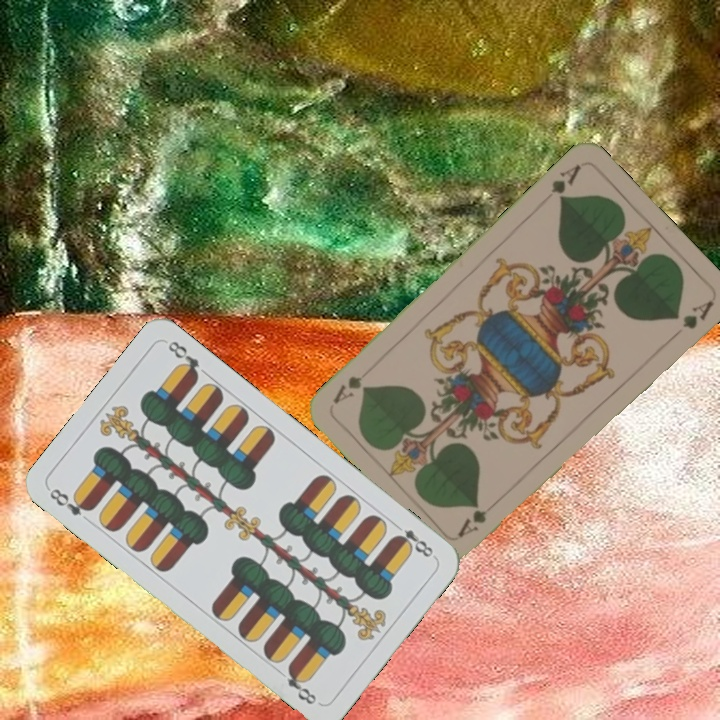E8: (389, 518, 436, 560), (45, 484, 96, 519)
GA: (454, 496, 502, 540), (546, 159, 584, 204)
